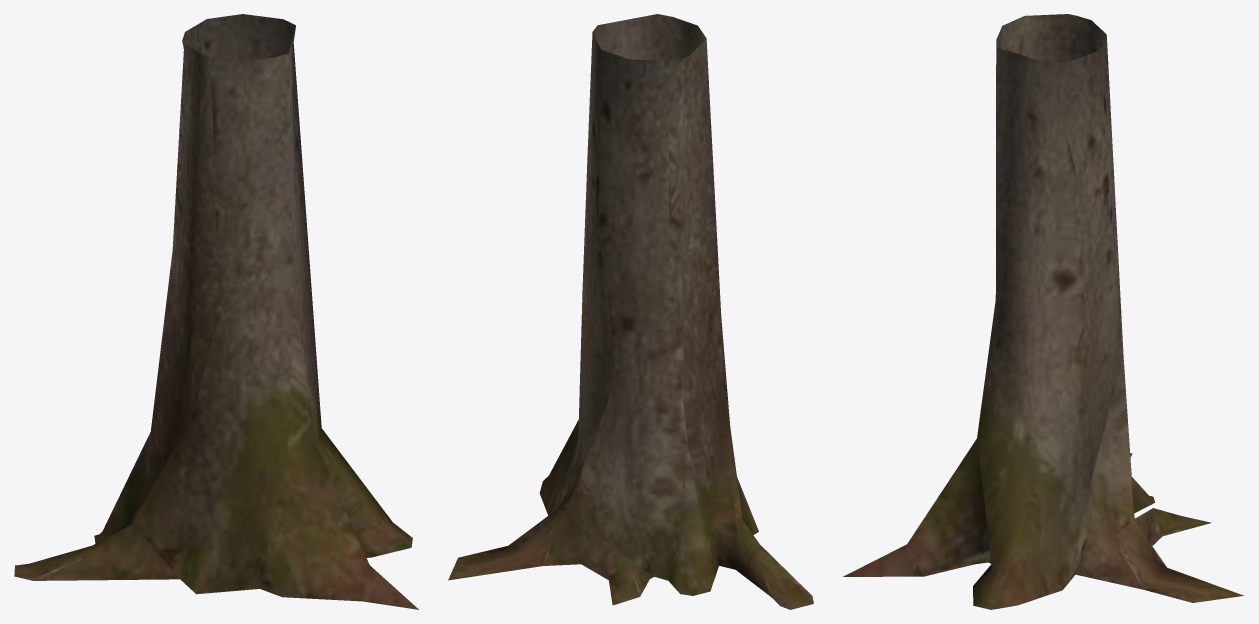
The model's file is spruce_trunk.glb.
The picture shows the model from 3 angles, left to right: view 1: azimuth 30°, elevation 25°; view 2: azimuth 150°, elevation 25°; view 3: azimuth 270°, elevation 25°; orthographic projection. The views are drawn at different scales.
Parts seen in each view (by area): view 1: xeticd0ga_LOD0_TIER3_000_MatID_1_0; view 2: xeticd0ga_LOD0_TIER3_000_MatID_1_0; view 3: xeticd0ga_LOD0_TIER3_000_MatID_1_0.
Boxes of the visible parts, bbox=[...] form: xeticd0ga_LOD0_TIER3_000_MatID_1_0: bbox=[14, 14, 418, 609]; xeticd0ga_LOD0_TIER3_000_MatID_1_0: bbox=[448, 14, 813, 609]; xeticd0ga_LOD0_TIER3_000_MatID_1_0: bbox=[843, 14, 1243, 609].
Bounding box in the file's own units: 1.73 × 2.52 × 1.81.
Materials: 1 (1 with a texture image).
